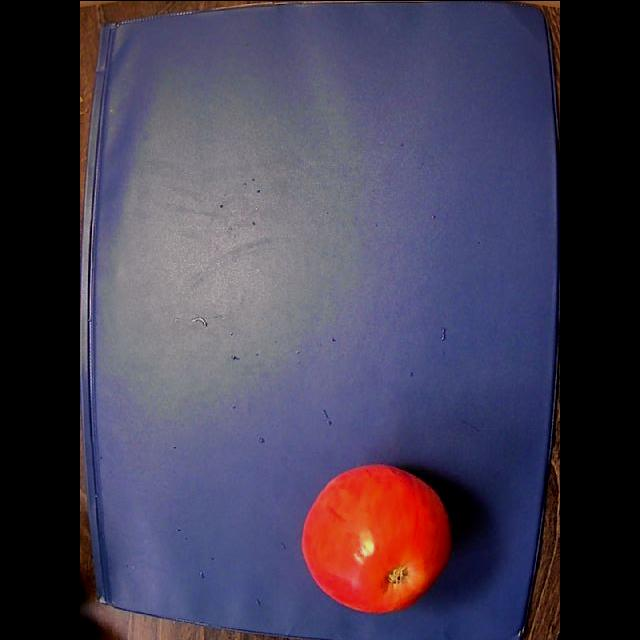manzana: (302, 464, 450, 612)
